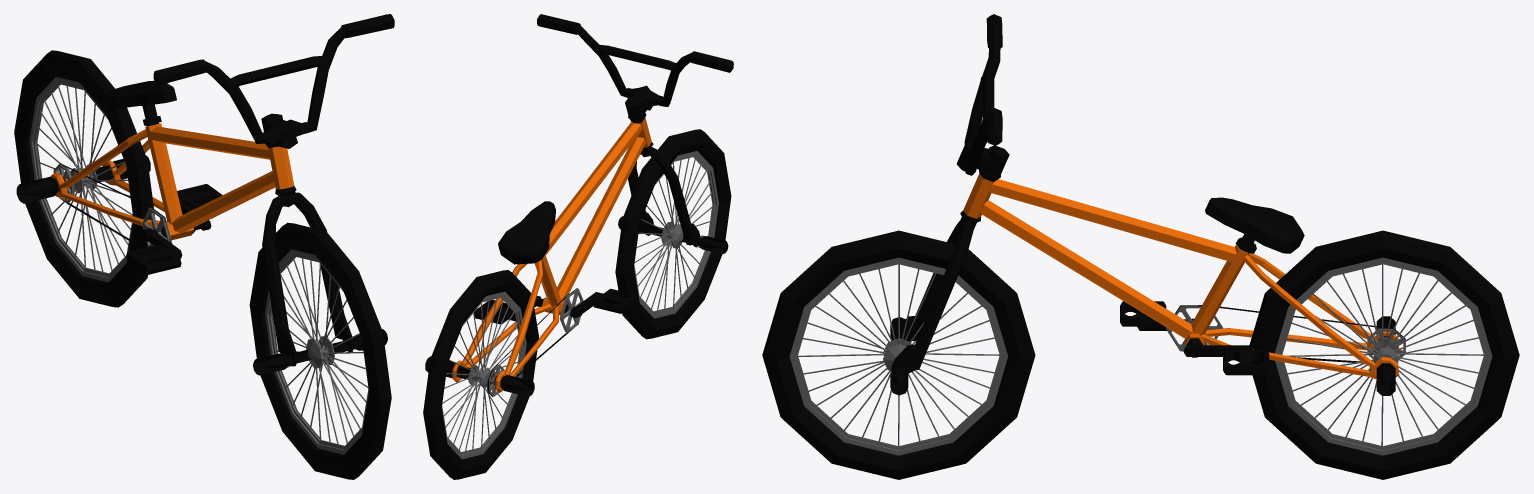
The model's file is uploads_files_5196181_BMX.fbx.
The picture shows the model from 3 angles, left to right: view 1: azimuth 30°, elevation 25°; view 2: azimuth 150°, elevation 25°; view 3: azimuth 270°, elevation 25°; orthographic projection. The views are drawn at different scales.
Parts seen in each view (by area): view 1: Circle.002, Circle.004, Cylinder.004, Cylinder.001, Circle.003, Circle.005, Cylinder.003, Cube, Cylinder.006, Cylinder.011, Circle.008, Cylinder.010 (+6 smaller); view 2: Circle.004, Circle.002, Cylinder.001, Cylinder.004, Circle.003, Circle.005, Cylinder.003, Cube, Cylinder.006, Cylinder.011, Circle.008, Cylinder.010 (+4 smaller); view 3: Circle.002, Circle.004, Circle.005, Cylinder.001, Circle.003, Cylinder.004, Cylinder.003, Cube, Cylinder.002, Cylinder.005.
Part boxes in pixels (<box>): Circle.002: <box>249,222,391,479</box>; Circle.004: <box>14,50,154,307</box>; Cylinder.004: <box>205,27,353,366</box>; Cylinder.001: <box>145,123,294,233</box>; Circle.003: <box>265,249,368,454</box>; Circle.005: <box>29,77,132,282</box>; Cylinder.003: <box>50,129,167,227</box>; Cube: <box>106,80,176,109</box>; Cylinder.006: <box>126,244,181,274</box>; Cylinder.011: <box>153,59,207,84</box>; Circle.008: <box>16,176,56,203</box>; Cylinder.010: <box>341,14,394,38</box>; Circle.004: <box>423,270,538,479</box>; Circle.002: <box>615,129,731,339</box>; Cylinder.001: <box>534,117,651,307</box>; Cylinder.004: <box>576,25,700,247</box>; Circle.003: <box>634,151,718,318</box>; Circle.005: <box>441,291,526,459</box>; Cylinder.003: <box>452,260,558,392</box>; Cube: <box>498,201,555,264</box>; Cylinder.006: <box>593,288,638,313</box>; Cylinder.011: <box>689,51,733,72</box>; Circle.008: <box>501,375,534,396</box>; Cylinder.010: <box>537,14,580,34</box>; Circle.002: <box>762,230,1035,479</box>; Circle.004: <box>1249,230,1519,479</box>; Circle.005: <box>1274,257,1492,455</box>; Cylinder.001: <box>963,174,1249,338</box>; Circle.003: <box>789,257,1008,455</box>; Cylinder.004: <box>891,39,1009,373</box>; Cylinder.003: <box>1201,253,1399,379</box>; Cube: <box>1205,197,1304,253</box>; Cylinder.002: <box>1223,348,1269,375</box>; Cylinder.005: <box>1137,318,1251,357</box>.
Size of the model in its own units: 111 by 178 by 299.
